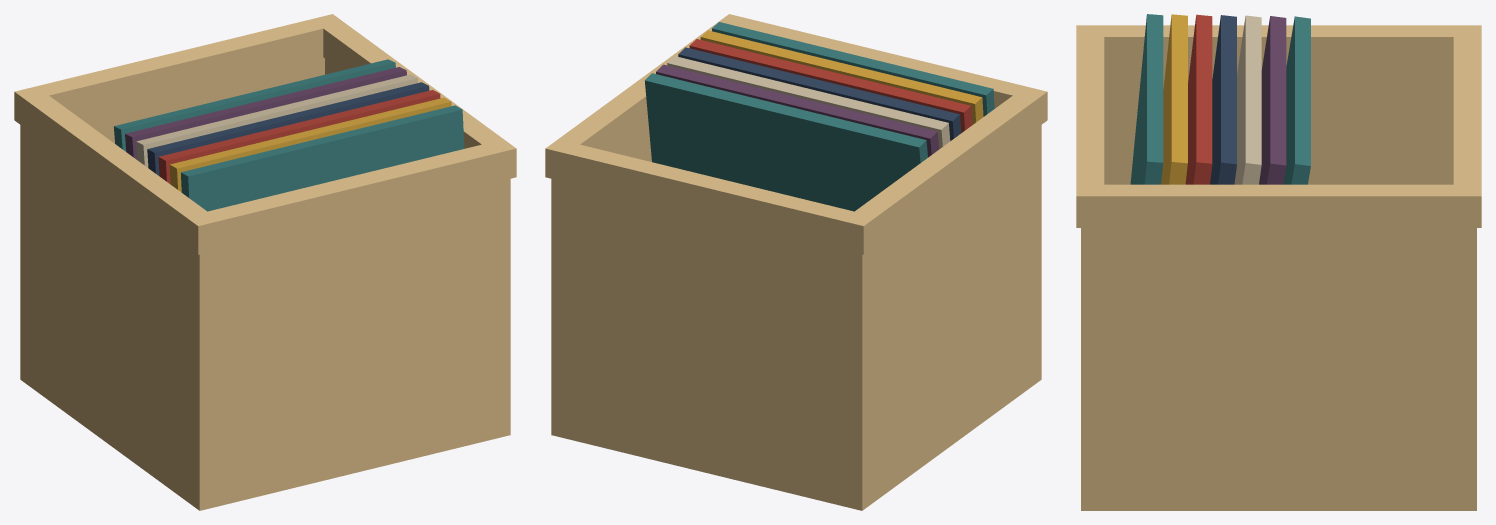
Rendered from SM_LPI_Decor_Records_01.fbx.
3 renders of one model, left to right at view 1: azimuth 30°, elevation 25°; view 2: azimuth 150°, elevation 25°; view 3: azimuth 270°, elevation 25°, orthographic. The views are drawn at different scales.
Parts seen in each view (by area): view 1: SM_LPI_Decor_Records_01; view 2: SM_LPI_Decor_Records_01; view 3: SM_LPI_Decor_Records_01.
Part boxes in pixels (x1,y1,x2,y2): SM_LPI_Decor_Records_01: (14,14,516,510); SM_LPI_Decor_Records_01: (545,14,1047,510); SM_LPI_Decor_Records_01: (1076,14,1481,510).
Size of the model in its own units: 0.348 by 0.3218 by 0.348.
